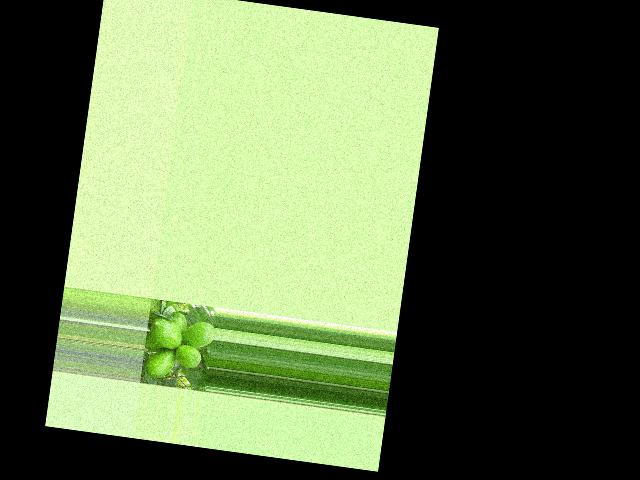lemon: (144, 345, 178, 381)
